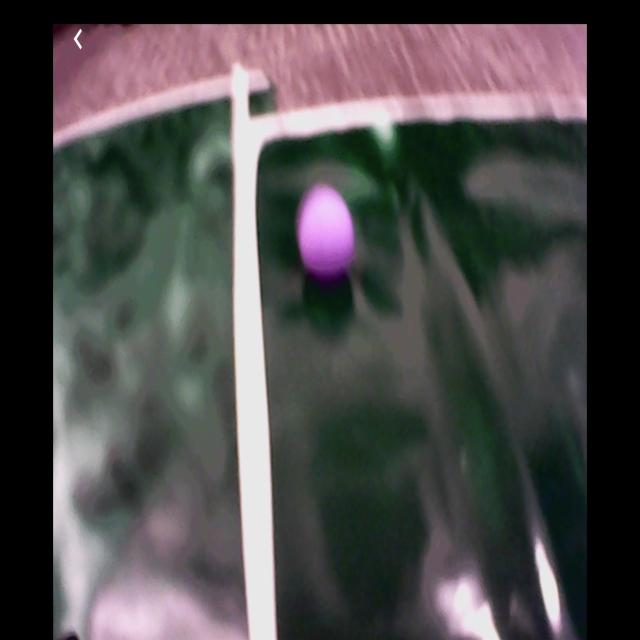ball: (298, 186, 356, 277)
